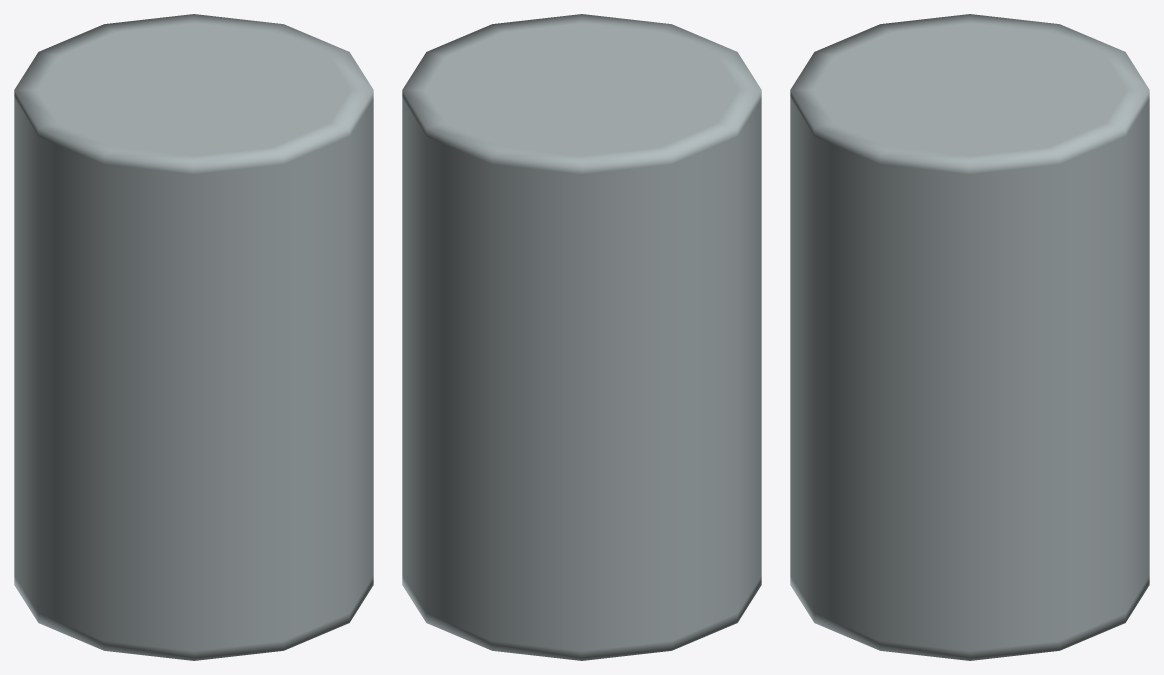
The model's file is lamp_light_thingy_stuff.fbx.
3 renders of one model, left to right at view 1: azimuth 30°, elevation 25°; view 2: azimuth 150°, elevation 25°; view 3: azimuth 270°, elevation 25°, orthographic.
Parts seen in each view (by area): view 1: lamp_thingy; view 2: lamp_thingy; view 3: lamp_thingy.
Part boxes in pixels (x1=…): lamp_thingy: x1=14, y1=14, x2=373, y2=660; lamp_thingy: x1=402, y1=14, x2=761, y2=660; lamp_thingy: x1=790, y1=14, x2=1149, y2=660.
Size of the model in its own units: 34.44 by 52.35 by 34.44.
Materials: 1 (1 with a texture image).
